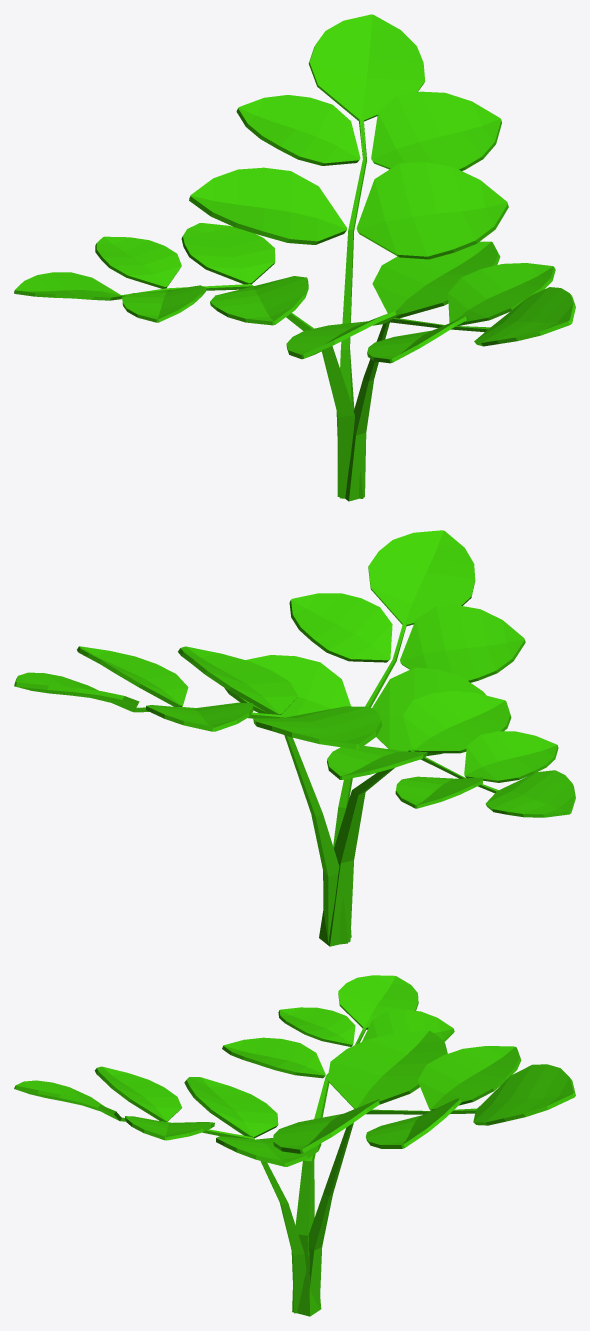
Rendered from potato_01.fbx.
The picture shows the model from 3 angles, top to bottom: view 1: azimuth 30°, elevation 25°; view 2: azimuth 150°, elevation 25°; view 3: azimuth 270°, elevation 25°; orthographic projection. The views are drawn at different scales.
Parts seen in each view (by area): view 1: Cylinder.001; view 2: Cylinder.001; view 3: Cylinder.001.
Boxes of the visible parts, left/top/right/bottom form: Cylinder.001: left=14, top=14, right=575, bottom=501; Cylinder.001: left=14, top=530, right=575, bottom=946; Cylinder.001: left=14, top=975, right=575, bottom=1316.
Size of the model in its own units: 67.26 by 43.2 by 74.85.
